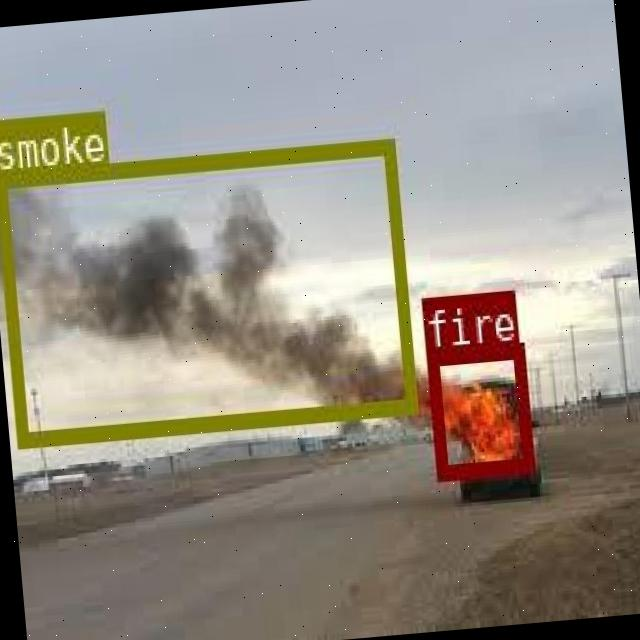fire: (424, 342, 531, 476)
smoke: (0, 137, 416, 443)
